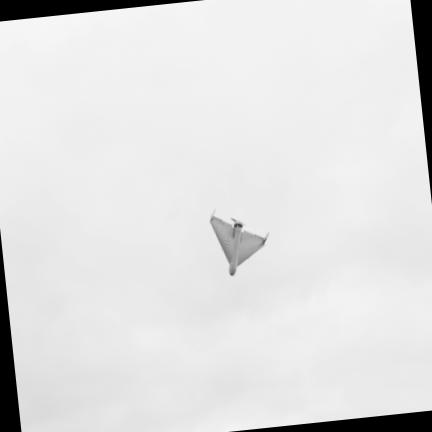Shahed: (211, 209, 269, 275)
